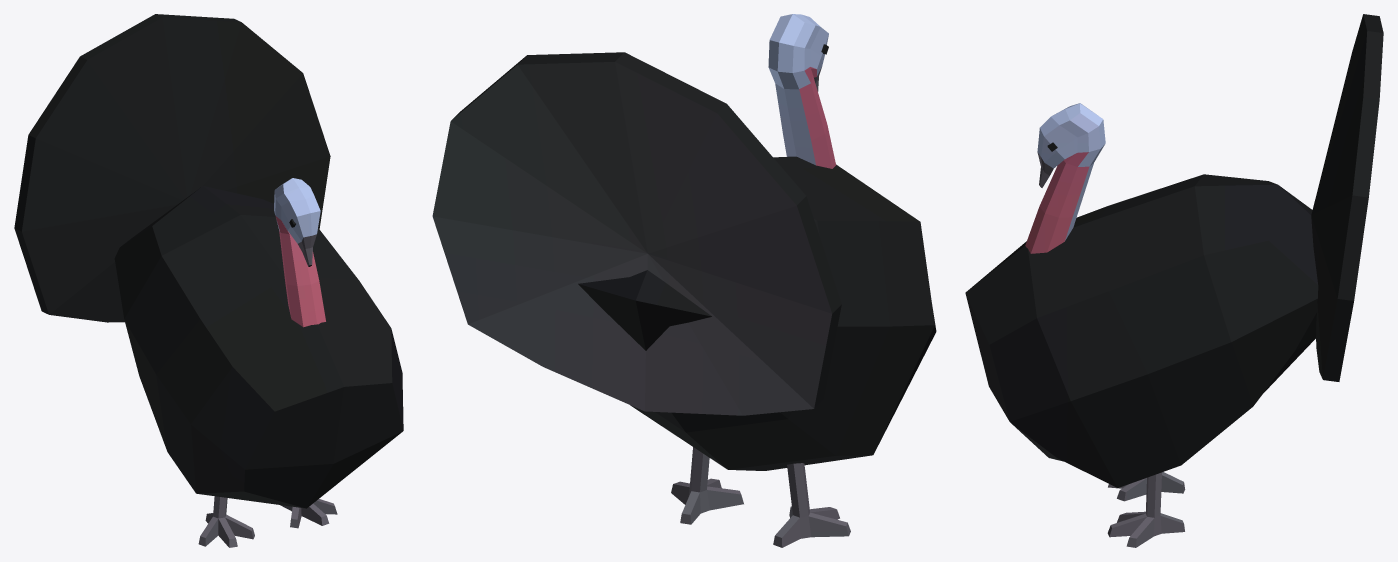
Rendered from bMbD7yiAnML.glb.
The picture shows the model from 3 angles, left to right: view 1: azimuth 30°, elevation 25°; view 2: azimuth 150°, elevation 25°; view 3: azimuth 270°, elevation 25°; orthographic projection. The views are drawn at different scales.
Visible parts, largest first — view 1: Geo_Turkey; view 2: Geo_Turkey; view 3: Geo_Turkey.
Boxes of the visible parts, <box> form: Geo_Turkey: <box>14,14,403,547</box>; Geo_Turkey: <box>432,14,936,547</box>; Geo_Turkey: <box>965,14,1383,547</box>.
Bounding box in the file's own units: 0.7452 × 1 × 0.79.
1 material, 1 textured.
